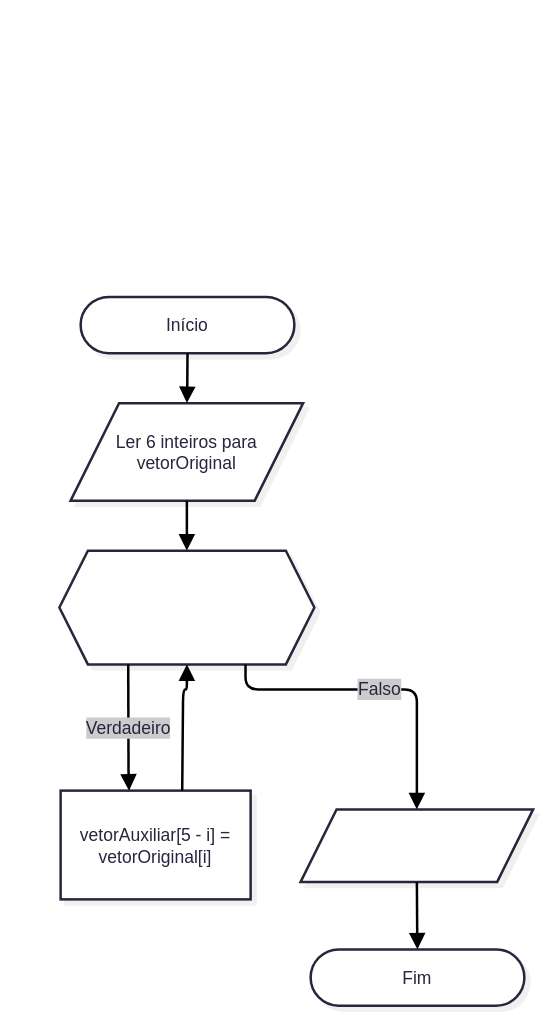
Some shapes in this 560 by 1033 pixel diagram are drawn without their labels. Here are the shapes that lost their labels. From the top down, the centre of each, then its label:
the point at 189,609: i = 0; i < 6; i++
the point at 419,848: Exibir vetorAuxiliar
